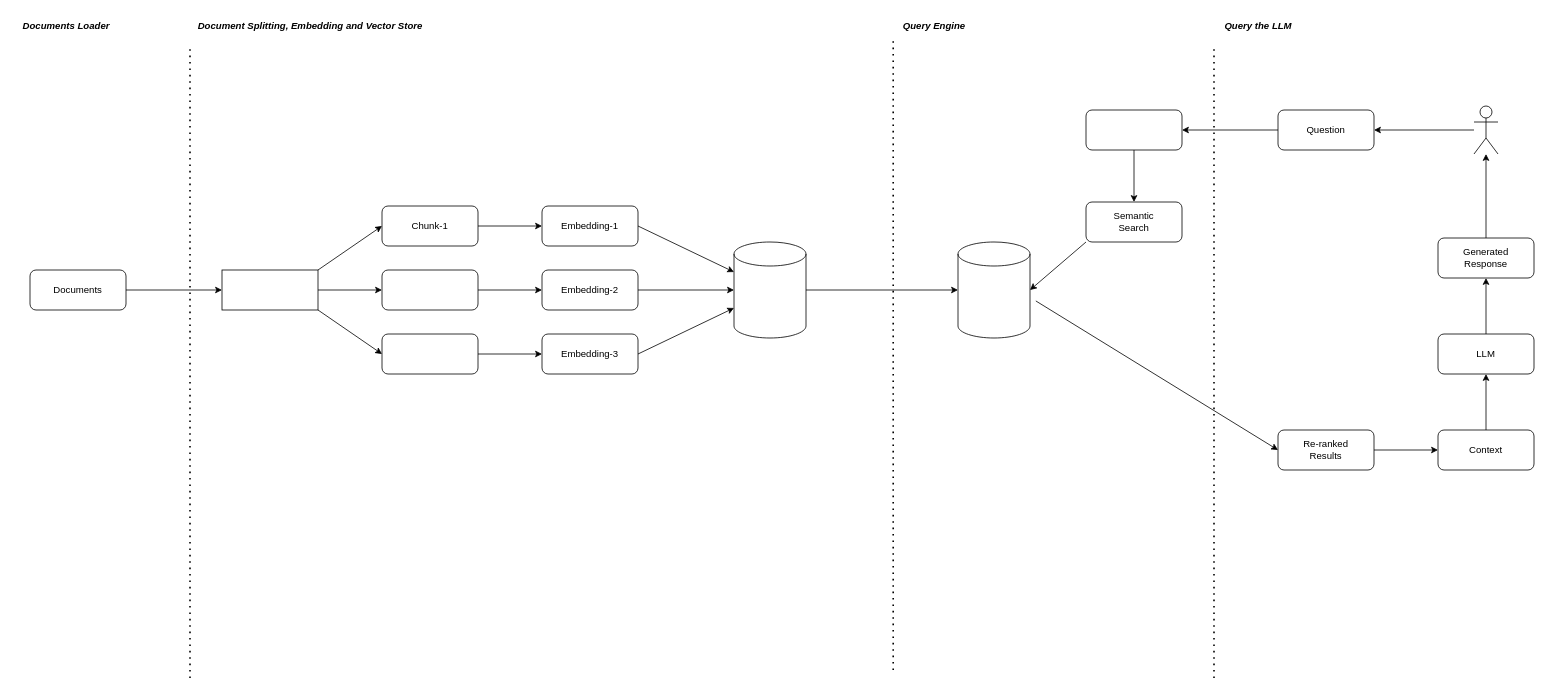
Image size: 1548x693. Some labels were removed from this diagram. Each missing label, with the centre of its shape:
Build Semantic Index: the point at 769,289
Chunk-2: the point at 429,289
Chunk-3: the point at 429,353
Compute Embeddings: the point at 1133,129
Knowledge Base: the point at 993,289
Splitting: the point at 269,289
